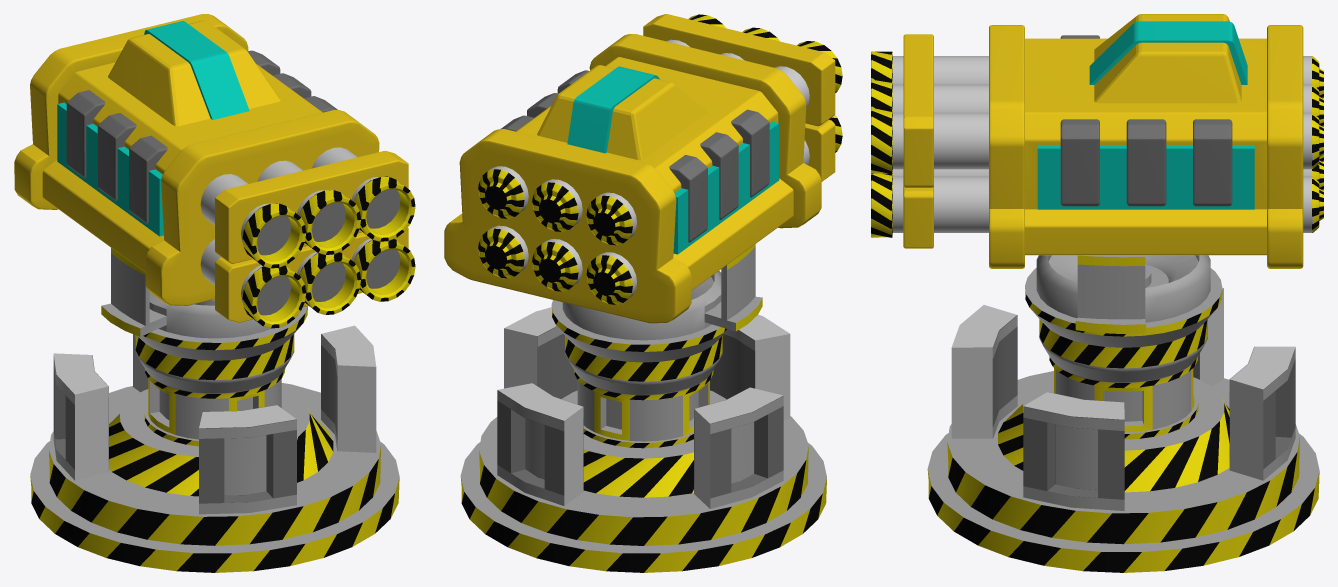
Rendered from rocket launcher.fbx.
3 renders of one model, left to right at view 1: azimuth 30°, elevation 25°; view 2: azimuth 150°, elevation 25°; view 3: azimuth 270°, elevation 25°, orthographic. The views are drawn at different scales.
Parts seen in each view (by area): view 1: polySurface1, turrent:pCylinder8; view 2: polySurface1, turrent:pCylinder8; view 3: polySurface1, turrent:pCylinder8.
Boxes of the visible parts, left/top/right/bottom form: polySurface1: left=14, top=14, right=415, bottom=328; turrent:pCylinder8: left=30, top=248, right=399, bottom=572; polySurface1: left=444, top=14, right=842, bottom=323; turrent:pCylinder8: left=460, top=244, right=826, bottom=572; polySurface1: left=871, top=14, right=1323, bottom=268; turrent:pCylinder8: left=927, top=255, right=1319, bottom=572.
Size of the model in its own units: 6.42 by 8.29 by 7.41.
